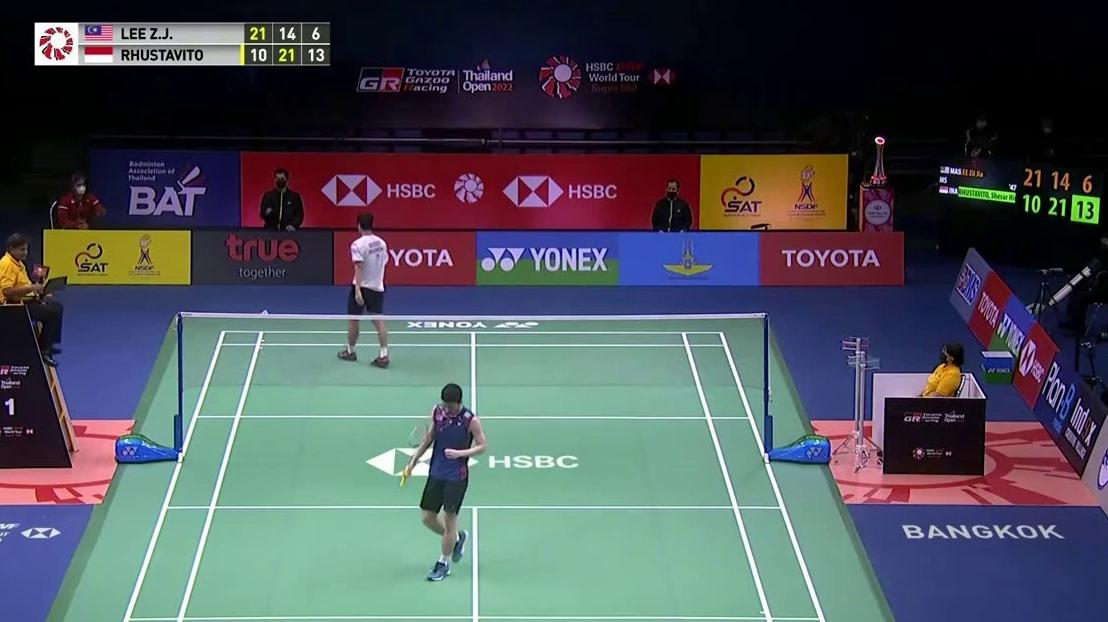racket: (398, 424, 428, 489)
shuttle: (262, 309, 268, 316)
